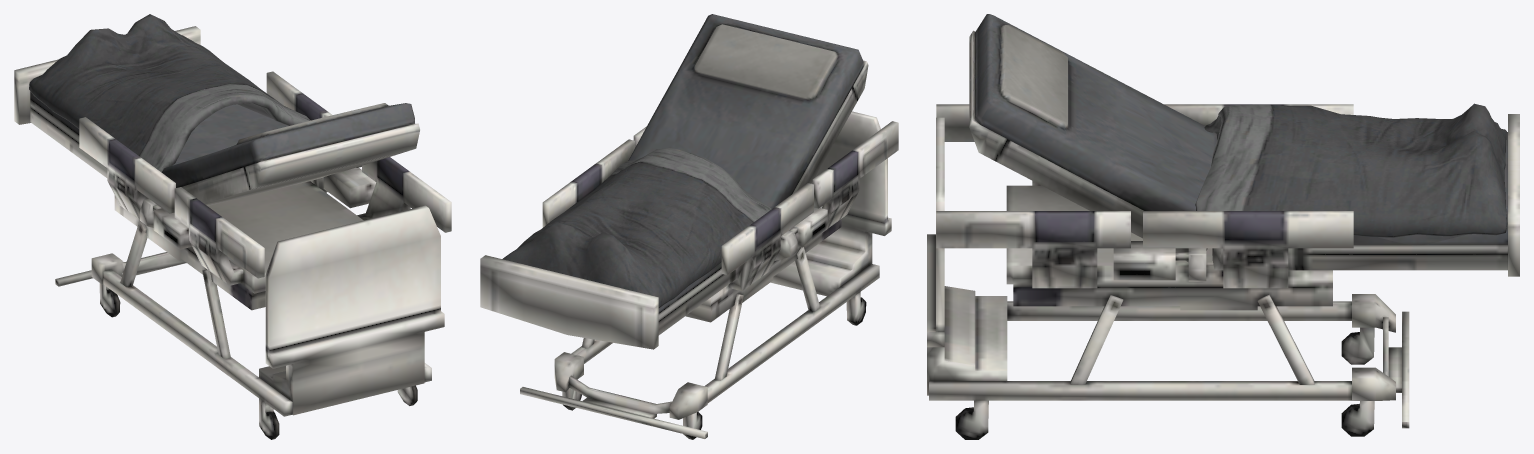
File: BedMedical02_Cine.FBX
The picture shows the model from 3 angles, left to right: view 1: azimuth 30°, elevation 25°; view 2: azimuth 150°, elevation 25°; view 3: azimuth 270°, elevation 25°; orthographic projection. The views are drawn at different scales.
Parts seen in each view (by area): view 1: BedMedical02_Cine; view 2: BedMedical02_Cine; view 3: BedMedical02_Cine.
Boxes of the visible parts, x1=… form: BedMedical02_Cine: x1=14, y1=14, x2=451, y2=439; BedMedical02_Cine: x1=480, y1=14, x2=898, y2=439; BedMedical02_Cine: x1=927, y1=14, x2=1519, y2=439.
Bounding box in the file's own units: 1.01 × 1.43 × 2.24.
